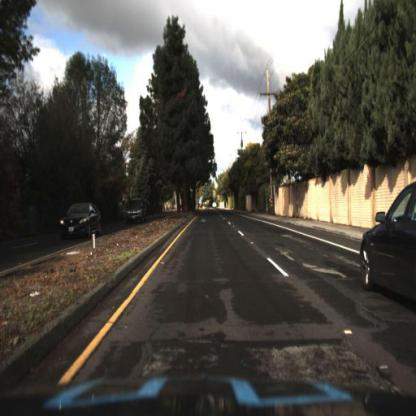car: (360, 179, 416, 299), (56, 199, 102, 245), (60, 201, 104, 247), (127, 200, 144, 222)
